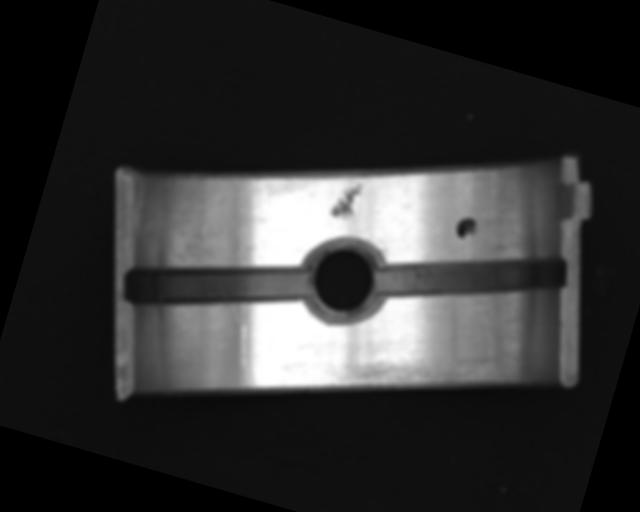blot: (453, 213, 479, 241)
bruise: (328, 176, 365, 223)
gap: (372, 211, 573, 345), (121, 224, 312, 348)
hole: (293, 235, 394, 332)
nick: (226, 326, 270, 391)
scratch: (330, 315, 509, 431)
